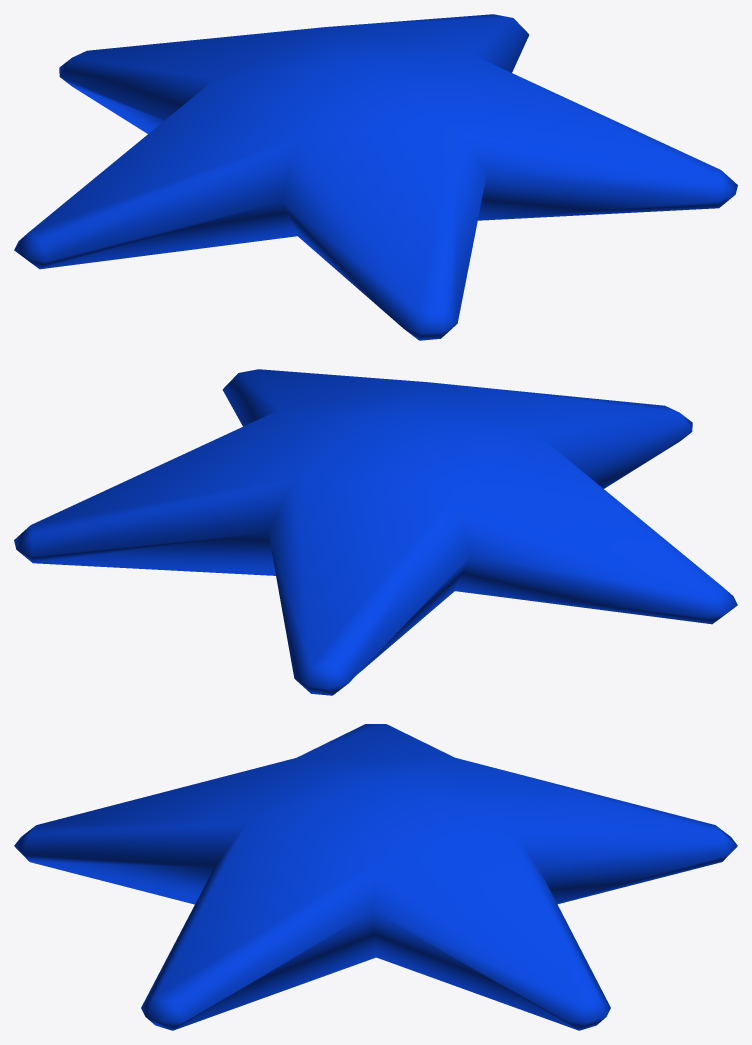
The model's file is Starfish 2.fbx.
3 views of the same model, one above another, from view 1: azimuth 30°, elevation 25°; view 2: azimuth 150°, elevation 25°; view 3: azimuth 270°, elevation 25° (orthographic). The views are drawn at different scales.
Visible parts, largest first — view 1: Cylinder022; view 2: Cylinder022; view 3: Cylinder022.
Boxes of the visible parts, x1,y1,x2,y2 form: Cylinder022: [14, 14, 737, 340]; Cylinder022: [14, 369, 737, 695]; Cylinder022: [14, 724, 737, 1030].
Size of the model in its own units: 15.01 by 2.88 by 15.79.
